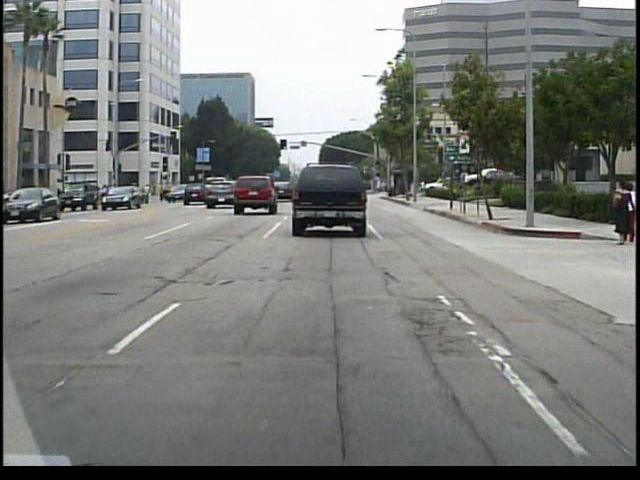person: (610, 178, 629, 247), (622, 181, 636, 243)
